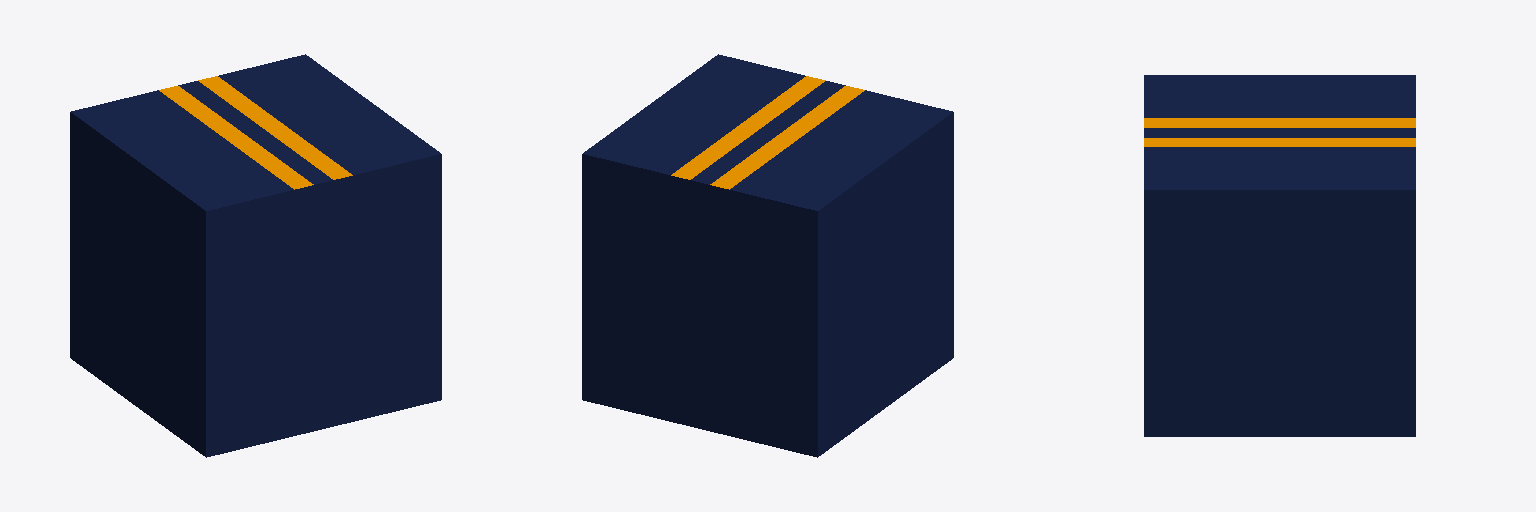
The picture shows the model from 3 angles: view 1: azimuth 30°, elevation 25°; view 2: azimuth 150°, elevation 25°; view 3: azimuth 270°, elevation 25°; orthographic projection.
Parts seen in each view (by area): view 1: tile_road_1; view 2: tile_road_1; view 3: tile_road_1.
Boxes of the visible parts, x1=… form: tile_road_1: x1=70, y1=54, x2=441, y2=457; tile_road_1: x1=582, y1=54, x2=953, y2=457; tile_road_1: x1=1144, y1=75, x2=1415, y2=436.
Bounding box in the file's own units: 1 × 1 × 1.
1 materials, 1 textured.